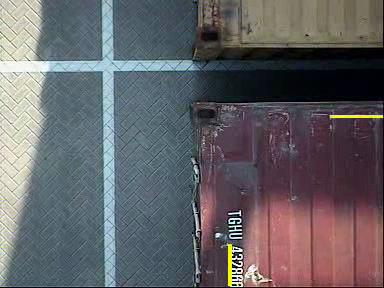groundmarker_2: (62, 57, 152, 118)
